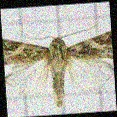Spodoptera litura: (3, 23, 112, 108)
